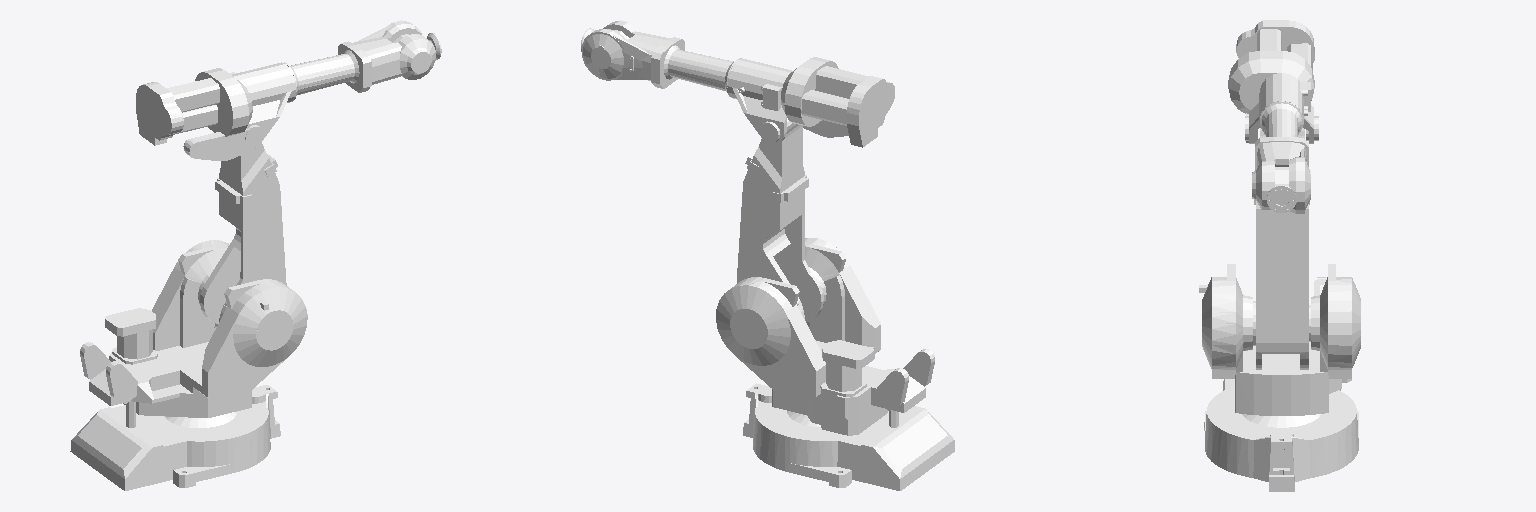
URDF robot description (abb):
<robot name="abb">

  <link name="base_footprint"/>
  <joint name="joint0" type="fixed">
    <origin xyz="0 0 0" rpy="0 0 0" />
    <parent link="base_footprint" />
    <child link="base_link" />
  </joint>

  <link name="base_link">
    <inertial>
      <origin
        xyz="-0.09014 0.10198 3.3608E-08"
        rpy="0 0 0" />
      <mass
        value="75.696" />
      <inertia
        ixx="2.0216"
        ixy="-0.072151"
        ixz="-2.4587E-06"
        iyy="5.58"
        iyz="-1.8958E-07"
        izz="3.9657" />
    </inertial>
    <visual>
      <origin
        xyz="0 0 0"
        rpy="0 0 0" />
      <geometry>
        <mesh
          filename="package://abb/meshes/base_link.STL" />
      </geometry>
      <material
        name="">
        <color
          rgba="1 1 1 1" />
      </material>
    </visual>
    <collision>
      <origin
        xyz="0 0 0"
        rpy="0 0 0" />
      <geometry>
        <mesh
          filename="package://abb/meshes/base_link.STL" />
      </geometry>
    </collision>
  </link>
  <link
    name="link1">
    <inertial>
      <origin
        xyz="0.026641 0.026279 0.5045"
        rpy="0 0 0" />
      <mass
        value="97.775" />
      <inertia
        ixx="6.4496"
        ixy="0.66324"
        ixz="-1.7903"
        iyy="6.4907"
        iyz="0.22844"
        izz="7.3209" />
    </inertial>
    <visual>
      <origin
        xyz="0 0 0"
        rpy="0 0 0" />
      <geometry>
        <mesh
          filename="package://abb/meshes/link1.STL" />
      </geometry>
      <material
        name="">
        <color
          rgba="1 1 1 1" />
      </material>
    </visual>
    <collision>
      <origin
        xyz="0 0 0"
        rpy="0 0 0" />
      <geometry>
        <mesh
          filename="package://abb/meshes/link1.STL" />
      </geometry>
    </collision>
  </link>
  <joint
    name="joint1"
    type="continuous">
    <origin
      xyz="0 0 0"
      rpy="0 0 0" />
    <parent
      link="base_link" />
    <child
      link="link1" />
    <axis
      xyz="0 0 1" />
    <limit
      effort="100"
      velocity="1" />
  </joint>
  <link
    name="link2">
    <inertial>
      <origin
        xyz="0.062784 0.40197 -0.11105"
        rpy="0 0 0" />
      <mass
        value="30.984" />
      <inertia
        ixx="2.3731"
        ixy="0.077088"
        ixz="-0.00037165"
        iyy="0.29095"
        iyz="-0.03347"
        izz="2.3579" />
    </inertial>
    <visual>
      <origin
        xyz="0 0 0"
        rpy="0 0 0" />
      <geometry>
        <mesh
          filename="package://abb/meshes/link2.STL" />
      </geometry>
      <material
        name="">
        <color
          rgba="1 1 1 1" />
      </material>
    </visual>
    <collision>
      <origin
        xyz="0 0 0"
        rpy="0 0 0" />
      <geometry>
        <mesh
          filename="package://abb/meshes/link2.STL" />
      </geometry>
    </collision>
  </link>
  <joint
    name="joint2"
    type="revolute">
    <origin
      xyz="0.2 -0.1065 0.68"
      rpy="1.5708 0 0" />
    <parent
      link="link1" />
    <child
      link="link2" />
    <axis
      xyz="0 0 1" />
    <limit
      lower="-1.5"
      upper="1.5"
      effort="100"
      velocity="1" />
  </joint>
  <link
    name="link3">
    <inertial>
      <origin
        xyz="-0.1268 0.13831 0.11428"
        rpy="0 0 0" />
      <mass
        value="30.967" />
      <inertia
        ixx="0.3644"
        ixy="0.03819"
        ixz="0.014448"
        iyy="1.2784"
        iyz="0.018206"
        izz="1.2522" />
    </inertial>
    <visual>
      <origin
        xyz="0 0 0"
        rpy="0 0 0" />
      <geometry>
        <mesh
          filename="package://abb/meshes/link3.STL" />
      </geometry>
      <material
        name="">
        <color
          rgba="1 1 1 1" />
      </material>
    </visual>
    <collision>
      <origin
        xyz="0 0 0"
        rpy="0 0 0" />
      <geometry>
        <mesh
          filename="package://abb/meshes/link3.STL" />
      </geometry>
    </collision>
  </link>
  <joint
    name="joint3"
    type="revolute">
    <origin
      xyz="0 0.89 -0.2005"
      rpy="0 0 0" />
    <parent
      link="link2" />
    <child
      link="link3" />
    <axis
      xyz="0 0 1" />
    <limit
      lower="-1.5"
      upper="1.5"
      effort="100"
      velocity="1" />
  </joint>
  <link
    name="link4">
    <inertial>
      <origin
        xyz="0.39197 -0.0011375 -0.0041415"
        rpy="0 0 0" />
      <mass
        value="16.886" />
      <inertia
        ixx="0.092184"
        ixy="-0.00050858"
        ixz="0.01381"
        iyy="0.72986"
        iyz="0.00015605"
        izz="0.70927" />
    </inertial>
    <visual>
      <origin
        xyz="0 0 0"
        rpy="0 0 0" />
      <geometry>
        <mesh
          filename="package://abb/meshes/link4.STL" />
      </geometry>
      <material
        name="">
        <color
          rgba="1 1 1 1" />
      </material>
    </visual>
    <collision>
      <origin
        xyz="0 0 0"
        rpy="0 0 0" />
      <geometry>
        <mesh
          filename="package://abb/meshes/link4.STL" />
      </geometry>
    </collision>
  </link>
  <joint
    name="joint4"
    type="continuous">
    <origin
      xyz="0.27532 0.15 0.094"
      rpy="6.4257E-23 3.2851E-16 1.956E-07" />
    <parent
      link="link3" />
    <child
      link="link4" />
    <axis
      xyz="1 0 0" />
    <limit
      effort="100"
      velocity="1" />
  </joint>
  <link
    name="link5">
    <inertial>
      <origin
        xyz="0.020963 0.00018945 -0.029169"
        rpy="0 0 0" />
      <mass
        value="1.6471" />
      <inertia
        ixx="0.0028476"
        ixy="2.7307E-06"
        ixz="-9.0639E-07"
        iyy="0.0068138"
        iyz="8.7217E-06"
        izz="0.0082578" />
    </inertial>
    <visual>
      <origin
        xyz="0 0 0"
        rpy="0 0 0" />
      <geometry>
        <mesh
          filename="package://abb/meshes/link5.STL" />
      </geometry>
      <material
        name="">
        <color
          rgba="1 1 1 1" />
      </material>
    </visual>
    <collision>
      <origin
        xyz="0 0 0"
        rpy="0 0 0" />
      <geometry>
        <mesh
          filename="package://abb/meshes/link5.STL" />
      </geometry>
    </collision>
  </link>
  <joint
    name="joint5"
    type="revolute">
    <origin
      xyz="0.60237 -0.00038004 0.029175"
      rpy="0.00604 -5.0106E-10 -1.956E-07" />
    <parent
      link="link4" />
    <child
      link="link5" />
    <axis
      xyz="0 0 1" />
    <limit
      lower="-1.5"
      upper="1.5"
      effort="100"
      velocity="1" />
  </joint>

</robot>

--- What the picture shows (computed from the rendered views, not written in the file) ---
3 views of the same robot in one strip: view 1: azimuth 30°, elevation 25°; view 2: azimuth 150°, elevation 25°; view 3: azimuth 270°, elevation 25° (orthographic).
Model abb with 7 links and 6 joints (3 revolute, 2 continuous, 1 fixed), rooted at base_footprint, posed every joint at zero.
Links seen in each view (by area): view 1: link1, base_link, link3, link2, link4; view 2: link1, base_link, link3, link2, link4; view 3: link1, base_link, link2, link3, link4, link5.
Link boxes in pixels (x1=…): link1: x1=80, y1=240, x2=307, y2=427; base_link: x1=70, y1=385, x2=280, y2=490; link3: x1=136, y1=62, x2=295, y2=160; link2: x1=200, y1=143, x2=286, y2=323; link4: x1=284, y1=20, x2=435, y2=101; link1: x1=716, y1=238, x2=934, y2=435; base_link: x1=743, y1=383, x2=954, y2=490; link3: x1=727, y1=57, x2=894, y2=147; link2: x1=737, y1=118, x2=823, y2=321; link4: x1=582, y1=20, x2=740, y2=96; link1: x1=1199, y1=264, x2=1360, y2=415; base_link: x1=1204, y1=379, x2=1358, y2=491; link2: x1=1253, y1=128, x2=1310, y2=369; link3: x1=1228, y1=20, x2=1318, y2=143; link4: x1=1252, y1=101, x2=1310, y2=213; link5: x1=1267, y1=167, x2=1296, y2=212.
Bounding box of the posed robot: 1.75 × 0.674 × 1.85 m (x, y, z).
Meshes: 6 distinct files referenced, 6 mesh visuals loaded (6 binary STL).